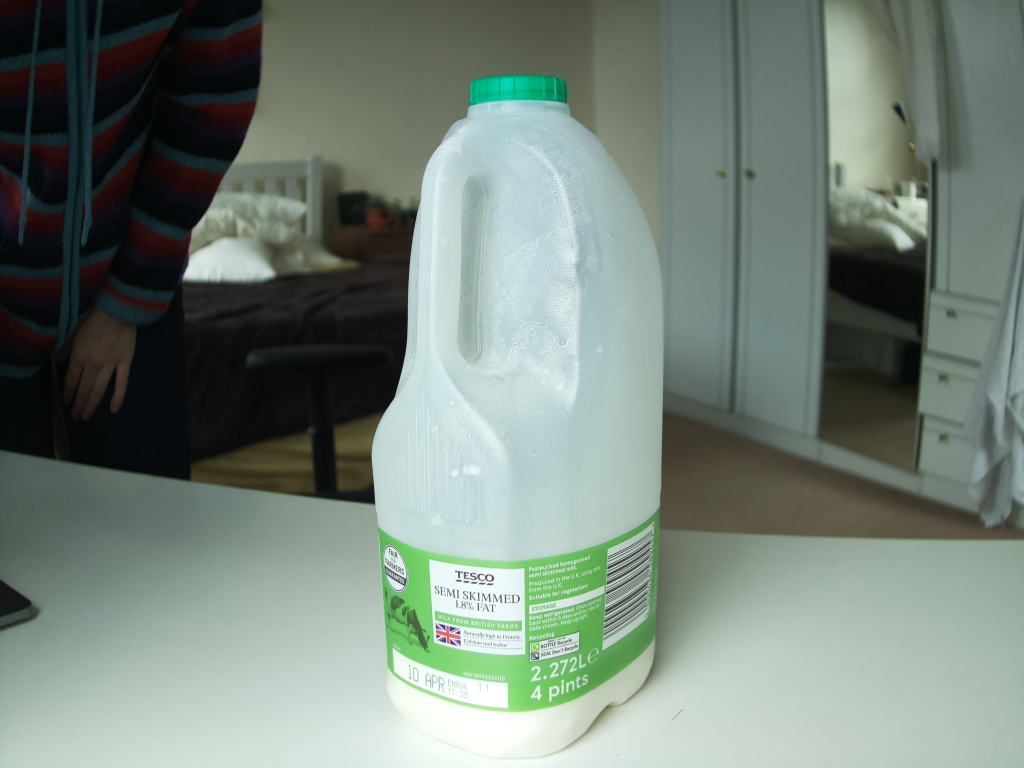milk: (361, 63, 680, 768)
